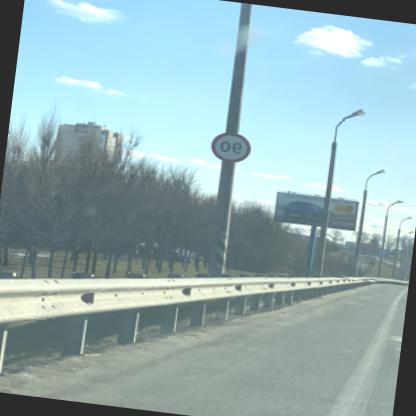speedlimit: (212, 129, 254, 164)
